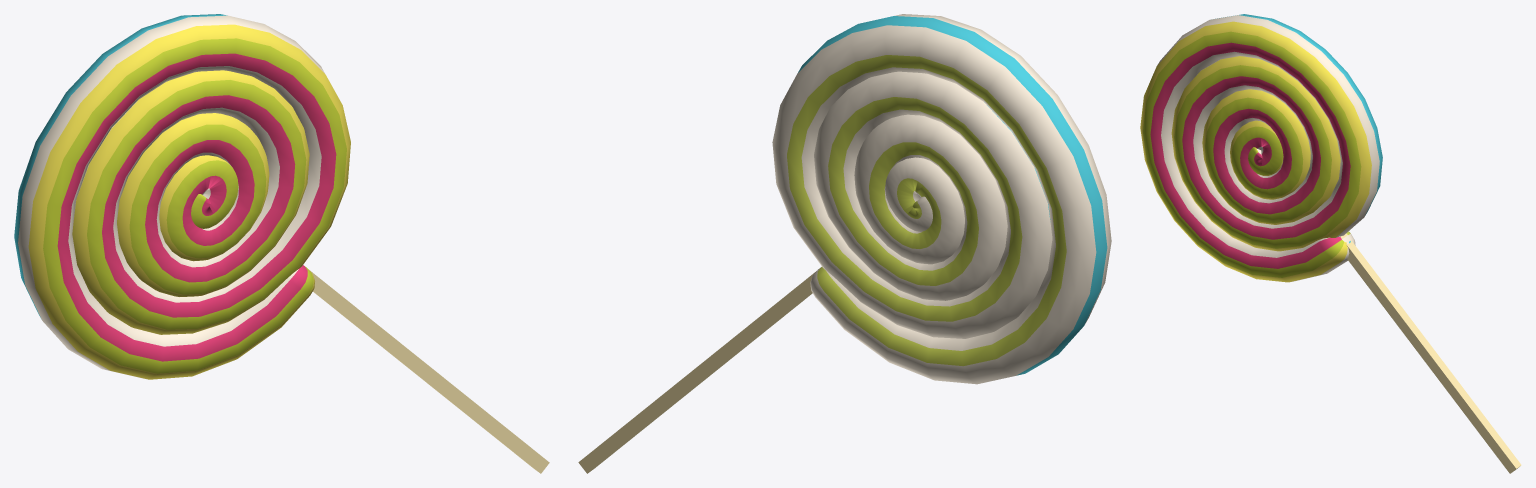
Rendered from lollipop.glb.
3 views of the same model, side by side, from view 1: azimuth 30°, elevation 25°; view 2: azimuth 150°, elevation 25°; view 3: azimuth 330°, elevation 25° (orthographic). The views are drawn at different scales.
Visible parts, largest first — view 1: BezierCurve.001; view 2: BezierCurve.001; view 3: BezierCurve.001.
Part boxes in pixels (x1,y1,x2,y2): BezierCurve.001: (14, 14, 549, 473); BezierCurve.001: (578, 14, 1111, 473); BezierCurve.001: (1140, 14, 1521, 473).
Size of the model in its own units: 2.28 by 2.23 by 0.2449.
Materials: 1 (1 with a texture image).
